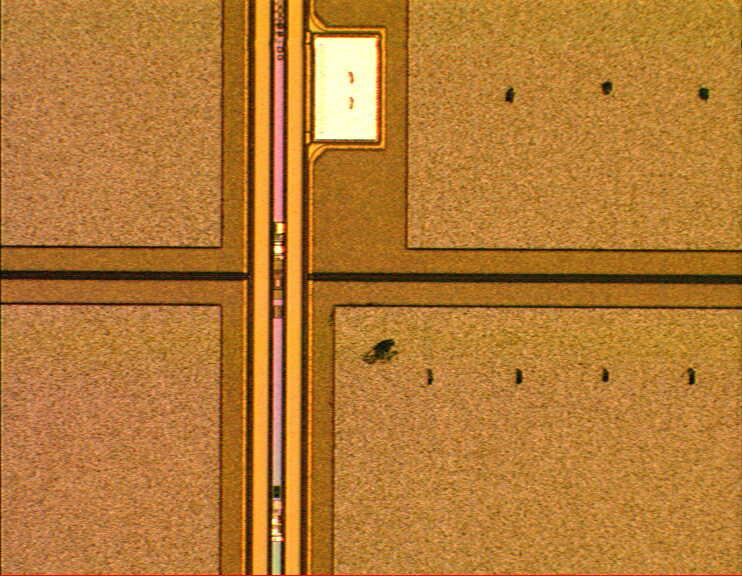SCRATCH: (347, 329, 414, 380)
